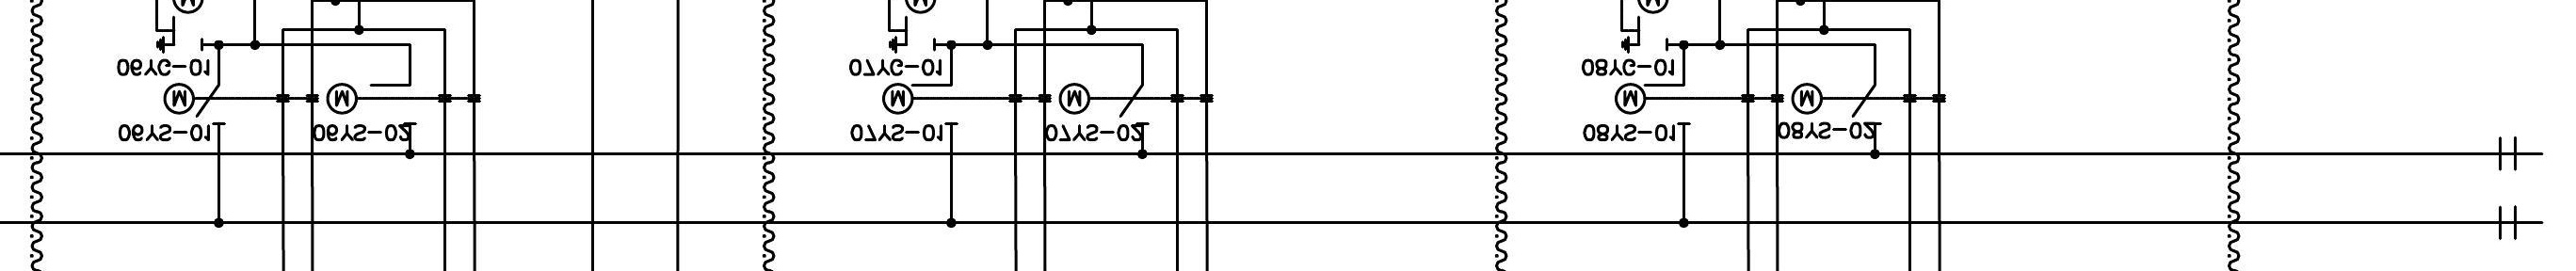115_1way_ds_w_motor: (1791, 82, 1883, 126), (1058, 82, 1150, 126), (325, 82, 417, 126), (881, 82, 959, 126), (1613, 82, 1692, 126), (163, 82, 227, 126)
115_buffer: (2499, 205, 2517, 240), (2499, 136, 2517, 171)
